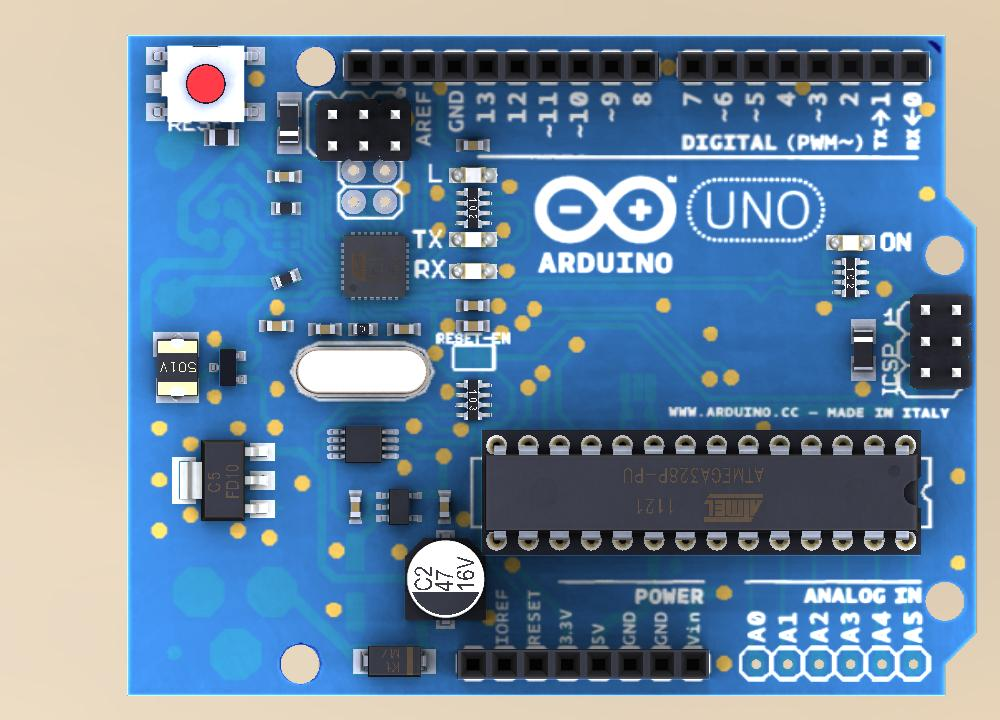47uF CAP: (409, 536, 488, 631)
ATMEL328P: (478, 427, 924, 560)
ATMega16u2: (337, 228, 414, 303)
CD1206: (276, 88, 305, 157), (851, 318, 879, 383)
Capa: (345, 488, 365, 527), (456, 136, 492, 155), (257, 317, 295, 335), (456, 297, 492, 315), (307, 321, 343, 338), (456, 317, 492, 334), (437, 488, 452, 527), (266, 169, 303, 183), (389, 322, 421, 338)
Crystal: (290, 338, 432, 403)
Fuse: (152, 331, 202, 408)
LED: (826, 232, 876, 253), (447, 261, 498, 281), (446, 230, 500, 248), (448, 166, 499, 185)
LMV358: (375, 486, 427, 528)
M7 diode: (350, 646, 440, 678)
Missing: (69, 147, 270, 315), (101, 559, 298, 703), (309, 537, 406, 633), (740, 641, 934, 687), (613, 364, 663, 410), (269, 216, 304, 264)
PIN Header: (897, 294, 972, 401), (304, 90, 411, 160)
Ports: (343, 46, 661, 89), (455, 643, 713, 683), (679, 48, 932, 88)
Regulator: (147, 427, 293, 544)
Reset: (144, 43, 264, 126)
Resistor: (269, 265, 306, 292), (203, 127, 240, 147), (348, 320, 381, 339), (269, 198, 303, 216)
Resistor pack: (456, 379, 494, 425), (454, 186, 493, 230), (832, 257, 871, 300)
SSOT3: (208, 346, 250, 389)
lp2985: (328, 425, 399, 463)
